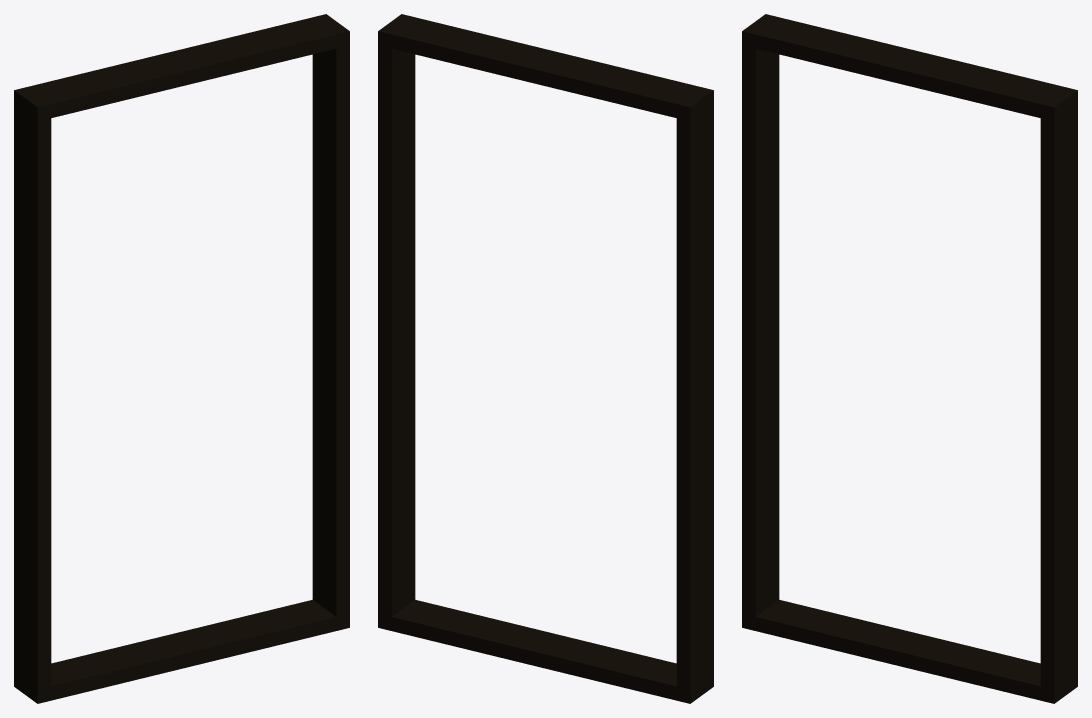
The model's file is doooooor-0-dver.obj.
3 views of the same model, side by side, from view 1: azimuth 30°, elevation 25°; view 2: azimuth 150°, elevation 25°; view 3: azimuth 330°, elevation 25° (orthographic).
Visible parts, largest first — view 1: dver; view 2: dver; view 3: dver.
Boxes of the visible parts, bbox=[...] form: dver: bbox=[14, 14, 349, 703]; dver: bbox=[378, 14, 713, 703]; dver: bbox=[742, 14, 1077, 703].
Bounding box in the file's own units: 2.3 × 4.2 × 0.3.
Materials: 1 (1 with a texture image).
